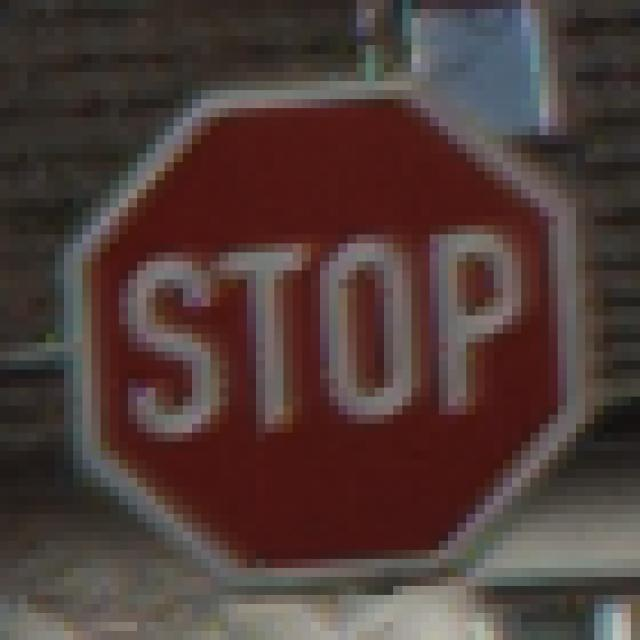stop: (114, 76, 545, 510)
